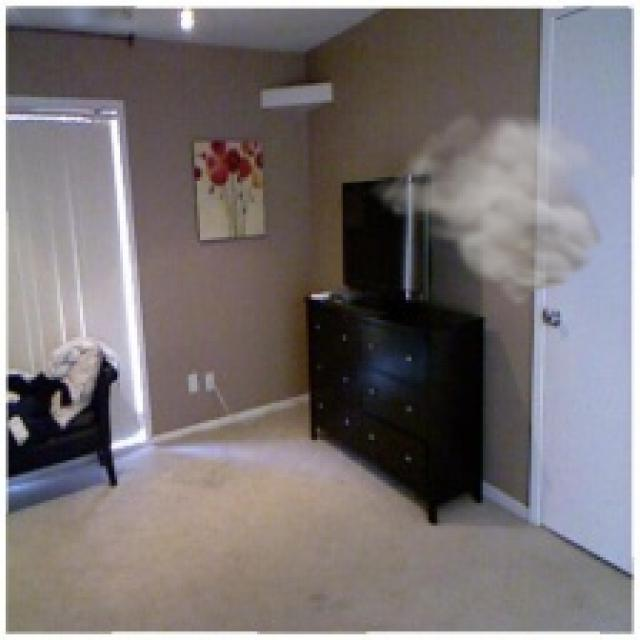smoke: (363, 105, 626, 308)
